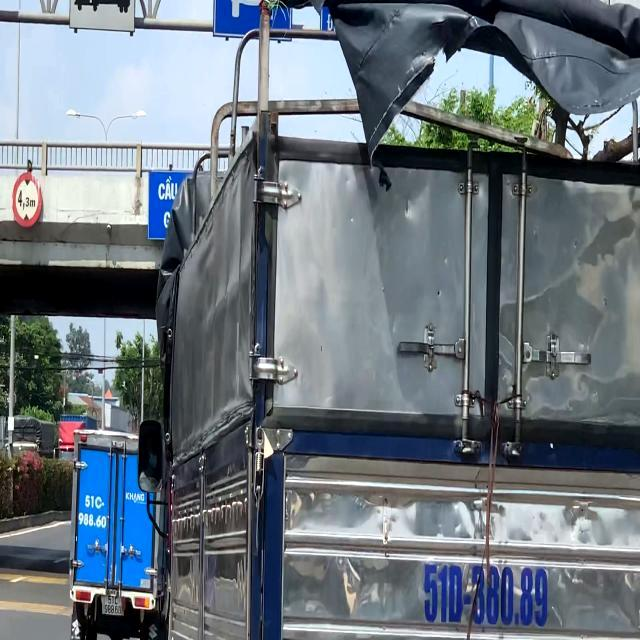Han che chieu cao: (10, 167, 42, 236)
